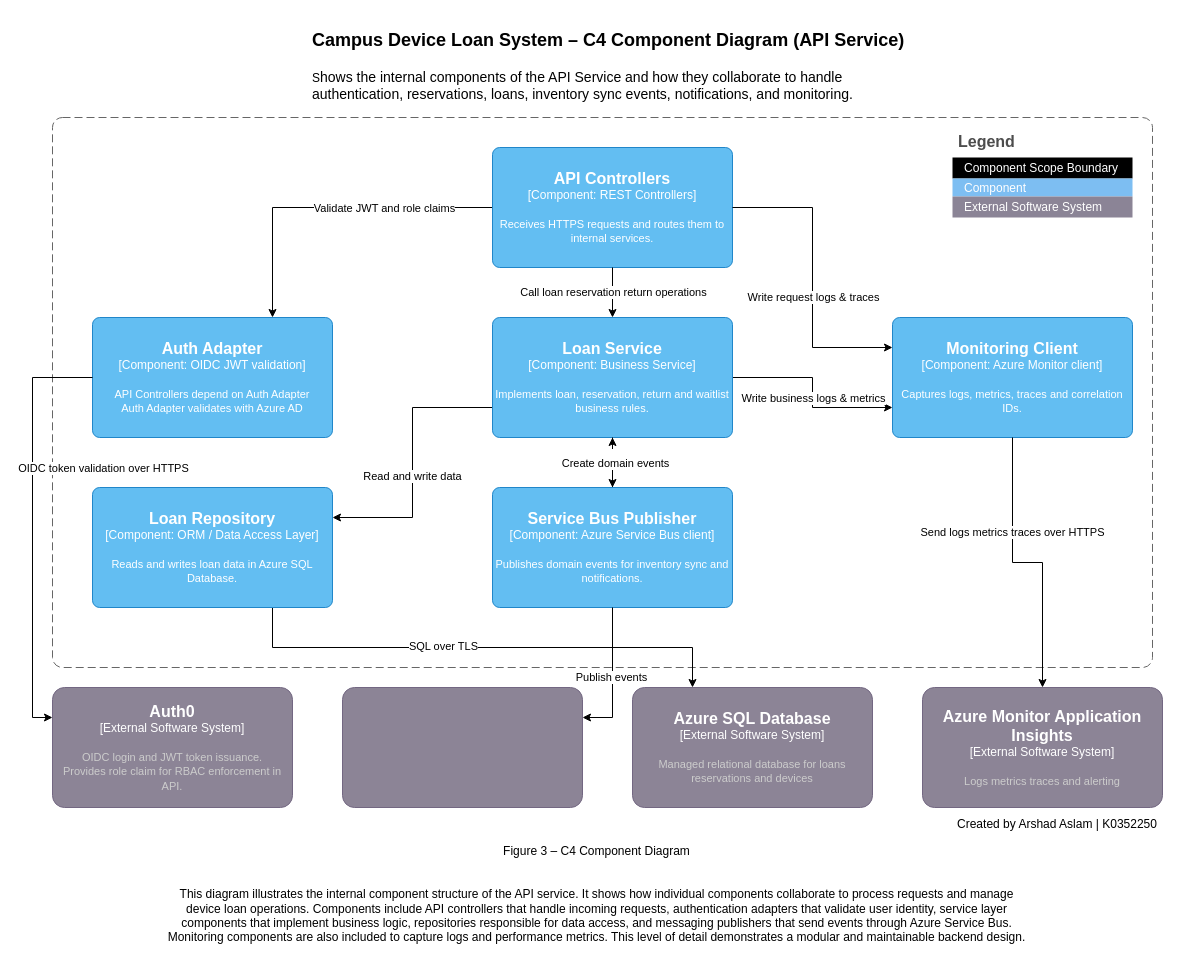
Some shapes in this 1180 by 964 pixel diagram are drawn without their labels. The shapes that lost their labels are listed below. From the top down, each one's box as (x1, y1, x2, y2) in pixels, then its label:
(52, 116, 1152, 668): API Service [Container: Azure App Service]
(342, 686, 582, 808): Azure Service Bus [External Software System] Event messaging for async workflows
